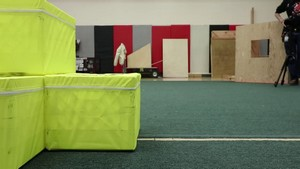cube: (46, 73, 142, 151)
